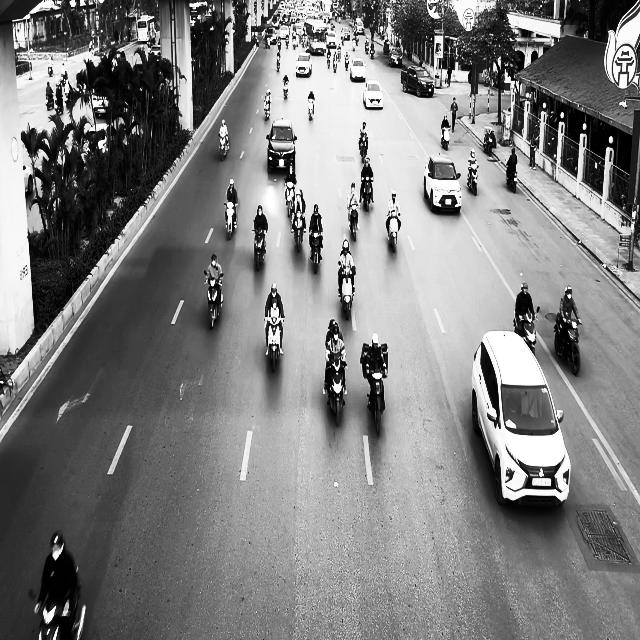bus: (136, 14, 156, 43)
car: (471, 328, 571, 508), (424, 156, 462, 213), (266, 118, 297, 172), (401, 65, 435, 97), (363, 79, 384, 109), (296, 52, 312, 77), (349, 58, 366, 81), (389, 47, 403, 67)
motorbike: (28, 565, 86, 639), (361, 342, 388, 435), (554, 313, 582, 375), (326, 357, 347, 426), (514, 306, 540, 356), (204, 270, 224, 329), (265, 315, 285, 372), (339, 268, 355, 320), (291, 210, 306, 252), (309, 230, 323, 274), (252, 227, 266, 271), (386, 213, 401, 252), (224, 201, 238, 240), (361, 176, 374, 212), (348, 203, 360, 241), (285, 179, 296, 217), (467, 163, 479, 196), (506, 165, 518, 192), (219, 132, 230, 160), (359, 135, 369, 162), (441, 125, 451, 150), (308, 97, 315, 120), (264, 97, 271, 120), (283, 78, 289, 99), (276, 52, 281, 72)
